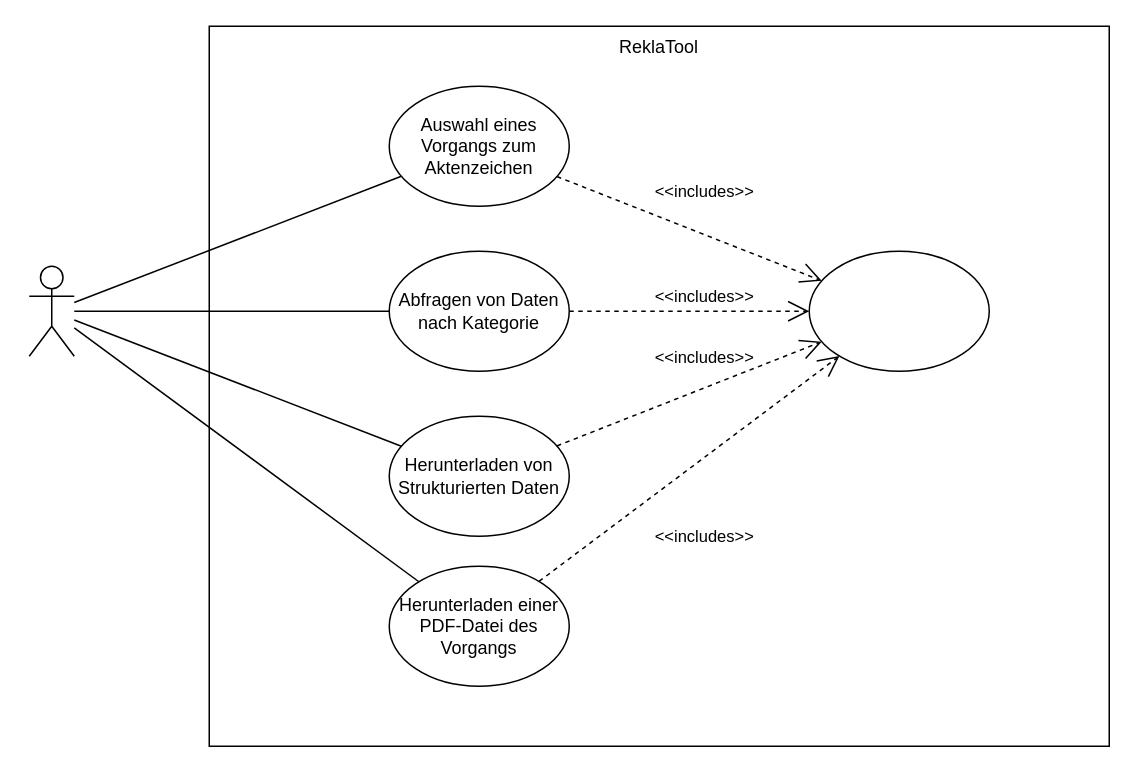
This 1136x773 diagram has some shape labels left out. The shapes that lost their labels are listed below. From the top down, each one's box as (x1, y1, x2, y2) in pixels, then its label:
(28, 265, 74, 356): Nutzer
(808, 250, 989, 371): Anmelden via IdentityProvider
